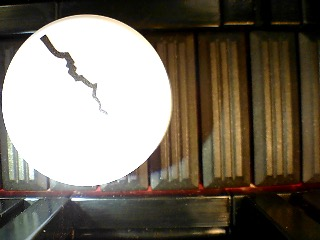CRACK: (1, 13, 174, 186)
